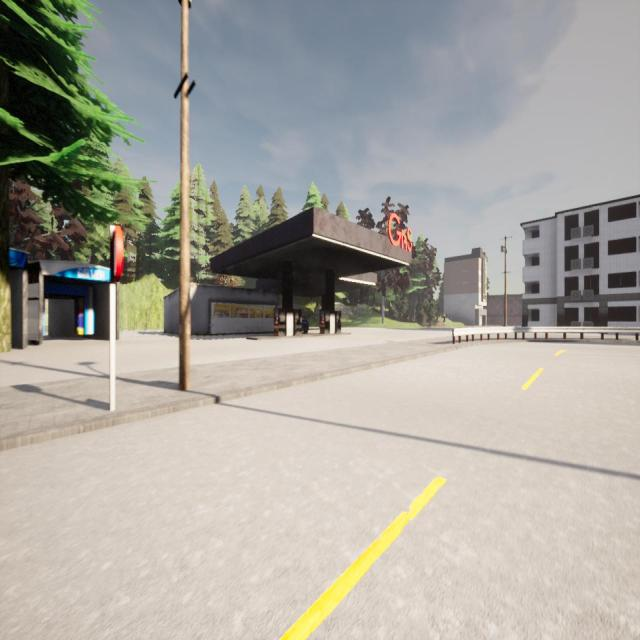Traffic_Signs: (110, 225, 124, 283)
Vehicle: (274, 308, 309, 335)
